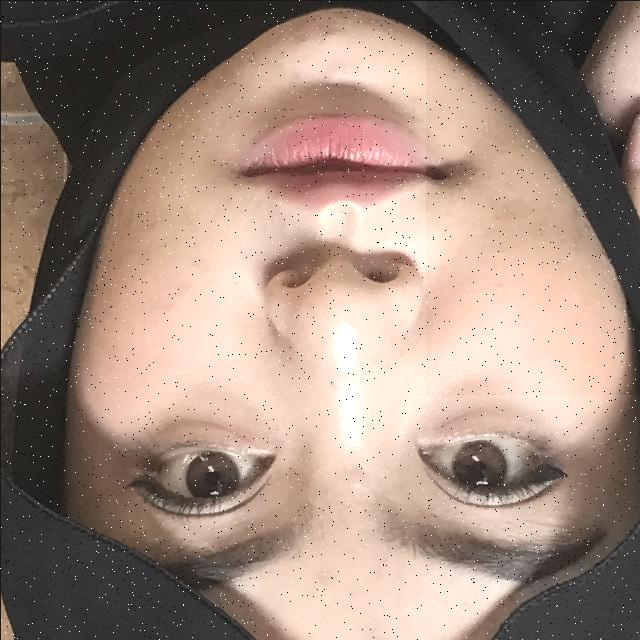ibu: (425, 0, 640, 394)
